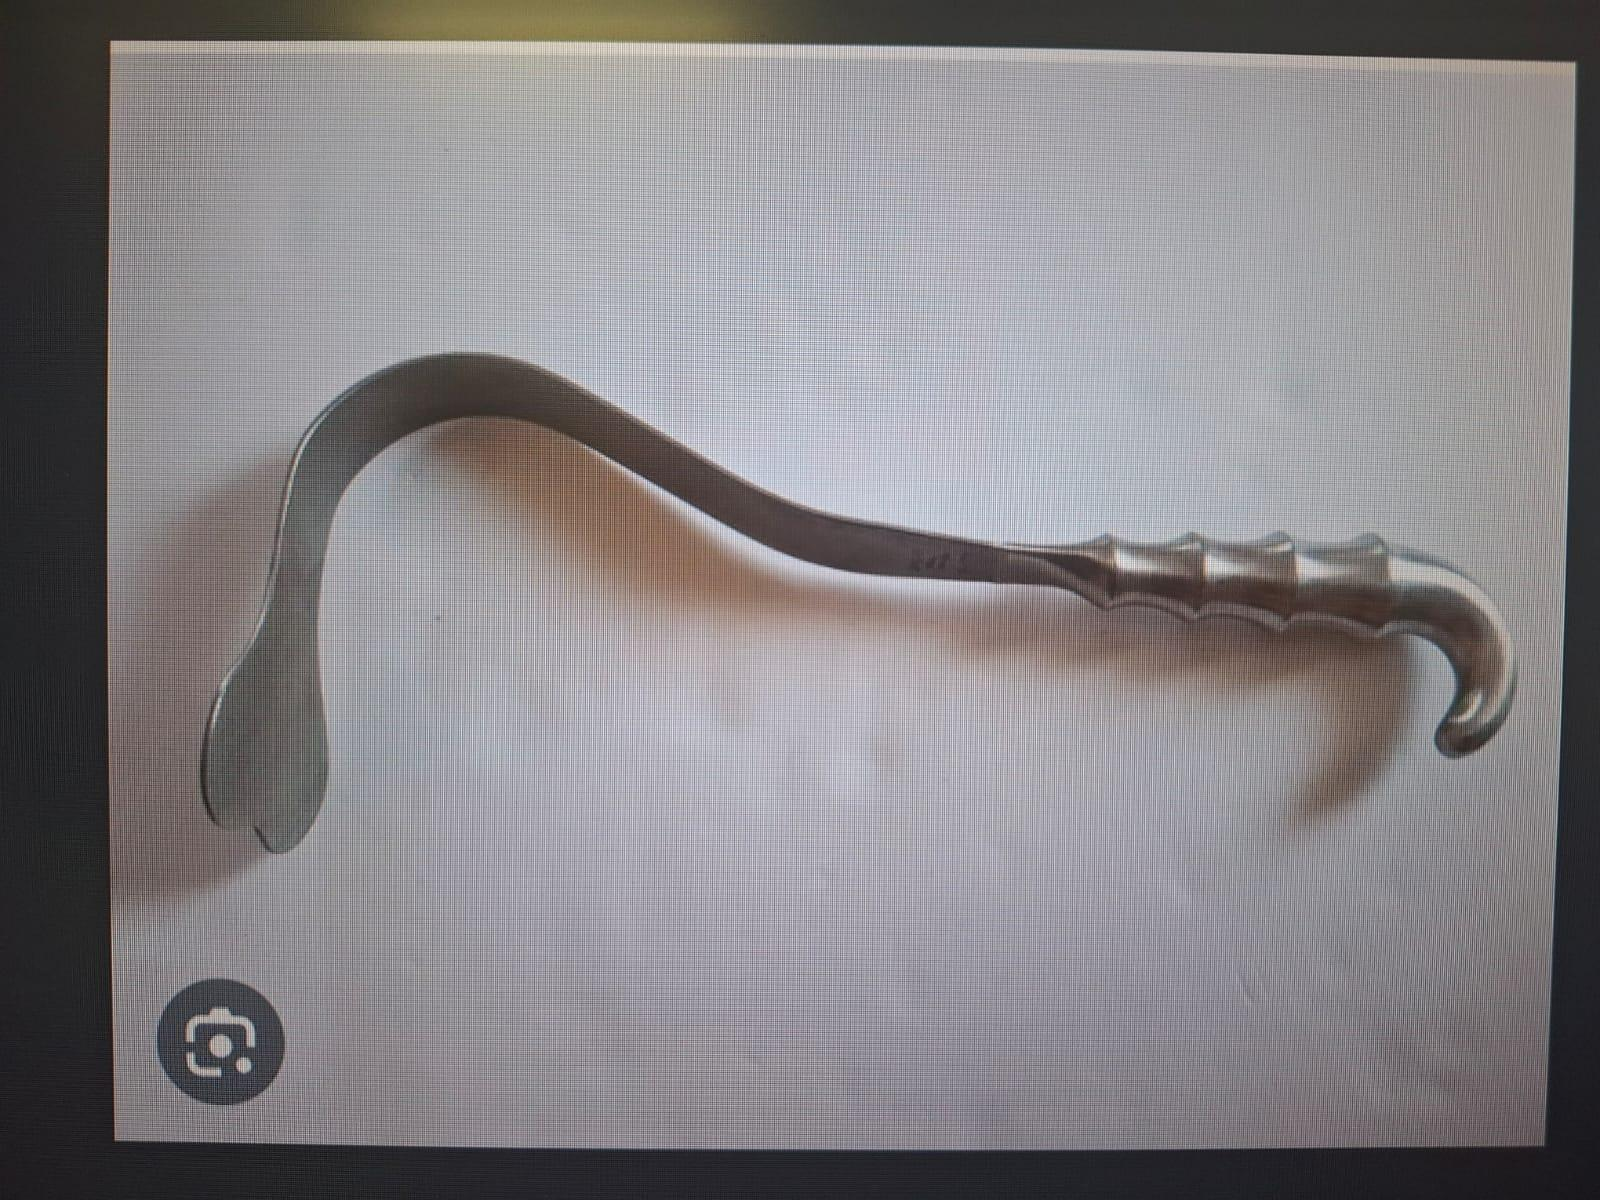Harrington Retractor: (163, 342, 1534, 882)
